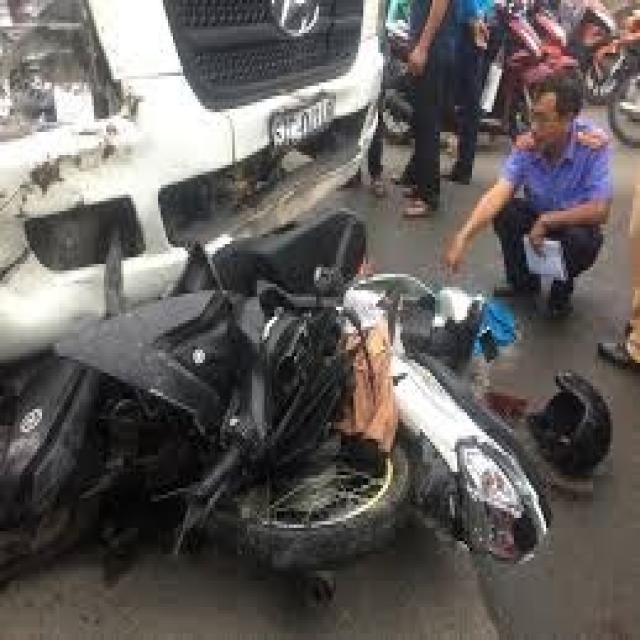accident: (0, 0, 547, 610)
